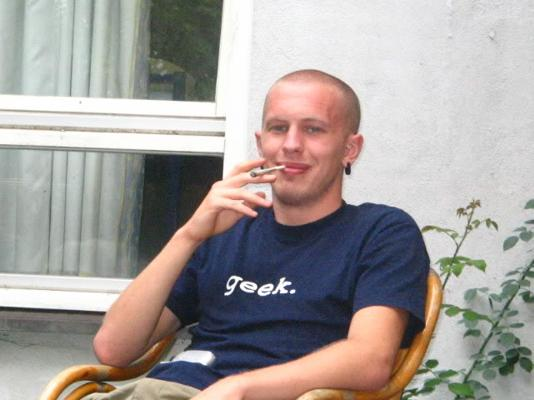person: (76, 68, 433, 400)
